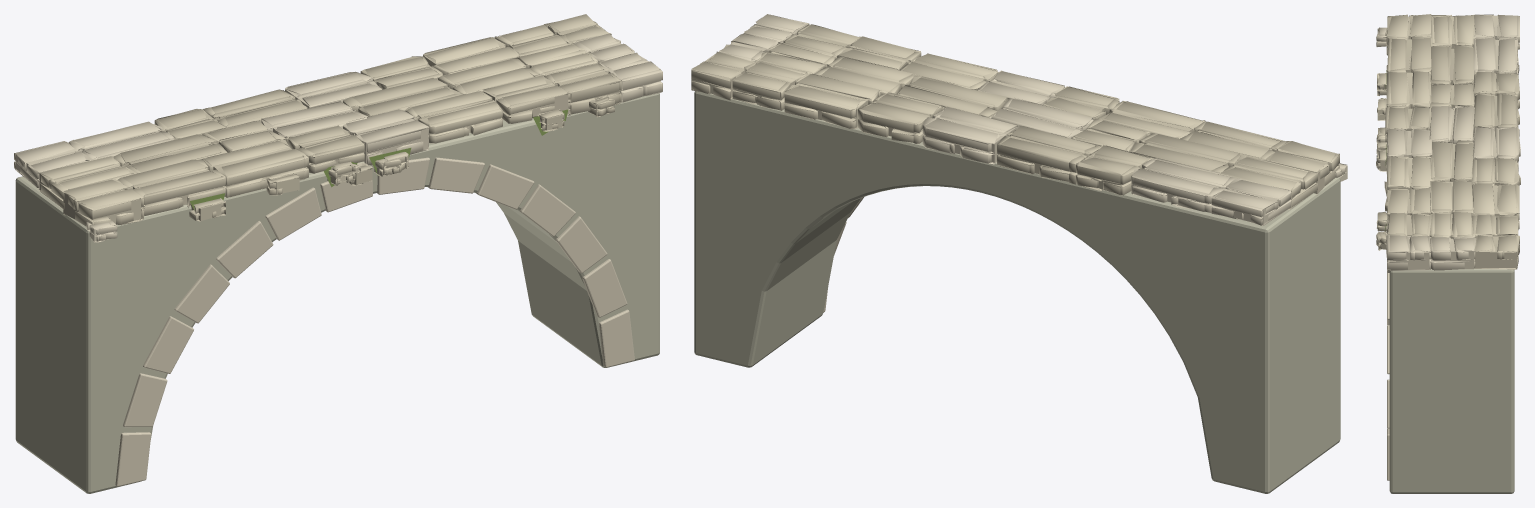
The model's file is bridge-10.glb.
3 renders of one model, left to right at view 1: azimuth 30°, elevation 25°; view 2: azimuth 150°, elevation 25°; view 3: azimuth 270°, elevation 25°, orthographic. The views are drawn at different scales.
Parts seen in each view (by area): view 1: Continuous arch foundation.009, CC0 worn paving.169, CC0 worn paving.170, CC0 worn paving.173, CC0 worn paving.168, CC0 worn paving.172, CC0 worn paving.174, CC0 worn paving.171, CC0 worn paving.178, CC0 worn paving.181, CC0 worn paving.175, CC0 worn paving.177 (+29 smaller); view 2: Continuous arch foundation.009, CC0 worn paving.188, CC0 worn paving.186, CC0 worn paving.189, CC0 worn paving.191, CC0 worn paving.190, CC0 worn paving.185, CC0 worn paving.178, CC0 worn paving.187, CC0 worn paving.181, CC0 worn paving.177, CC0 worn paving.192 (+15 smaller); view 3: Continuous arch foundation.009, CC0 worn paving.178, CC0 worn paving.181, CC0 worn paving.186, CC0 worn paving.180, CC0 worn paving.169, CC0 worn paving.170, CC0 worn paving.176, CC0 worn paving.188, CC0 worn paving.193, CC0 worn paving.191, CC0 worn paving.173 (+21 smaller).
Part boxes in pixels (<box>): Continuous arch foundation.009: <box>15,93,659,493</box>; CC0 worn paving.169: <box>117,159,226,217</box>; CC0 worn paving.170: <box>202,139,308,197</box>; CC0 worn paving.173: <box>406,90,502,143</box>; CC0 worn paving.168: <box>63,179,143,226</box>; CC0 worn paving.172: <box>343,109,428,165</box>; CC0 worn paving.174: <box>483,74,570,123</box>; CC0 worn paving.171: <box>284,125,364,173</box>; CC0 worn paving.178: <box>113,134,227,173</box>; CC0 worn paving.181: <box>343,78,462,116</box>; CC0 worn paving.175: <box>543,63,621,115</box>; CC0 worn paving.177: <box>38,156,137,209</box>; Continuous arch foundation.009: <box>694,91,1340,493</box>; CC0 worn paving.188: <box>997,125,1101,184</box>; CC0 worn paving.186: <box>1131,158,1234,212</box>; CC0 worn paving.189: <box>922,106,1019,164</box>; CC0 worn paving.191: <box>784,73,881,128</box>; CC0 worn paving.190: <box>858,92,944,143</box>; CC0 worn paving.185: <box>1211,178,1291,225</box>; CC0 worn paving.178: <box>1129,133,1240,174</box>; CC0 worn paving.187: <box>1075,144,1154,195</box>; CC0 worn paving.181: <box>897,75,1008,117</box>; CC0 worn paving.177: <box>1218,155,1317,209</box>; CC0 worn paving.192: <box>732,62,808,110</box>; Continuous arch foundation.009: <box>1389,148,1514,493</box>; CC0 worn paving.178: <box>1430,45,1474,85</box>; CC0 worn paving.181: <box>1429,140,1473,181</box>; CC0 worn paving.186: <box>1472,36,1519,74</box>; CC0 worn paving.180: <box>1429,105,1474,152</box>; CC0 worn paving.169: <box>1386,36,1432,72</box>; CC0 worn paving.170: <box>1386,71,1430,108</box>; CC0 worn paving.176: <box>1386,235,1432,270</box>; CC0 worn paving.188: <box>1473,93,1519,136</box>; CC0 worn paving.193: <box>1474,234,1519,269</box>; CC0 worn paving.191: <box>1472,183,1519,228</box>; CC0 worn paving.173: <box>1384,156,1433,196</box>.
Bounding box in the file's own units: 10 × 4.78 × 2.57.
